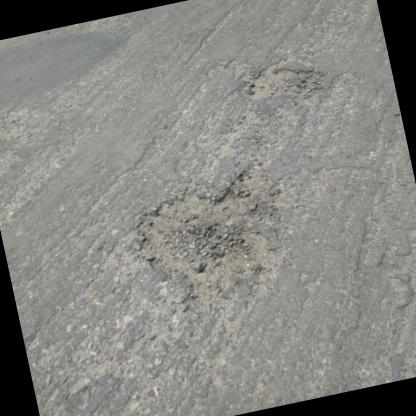pothole: (127, 160, 296, 316), (239, 50, 332, 109)
